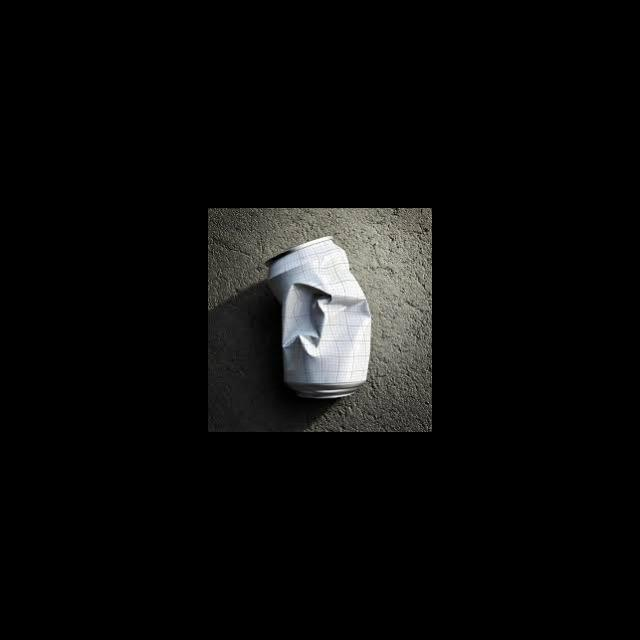metal: (265, 236, 380, 405)
